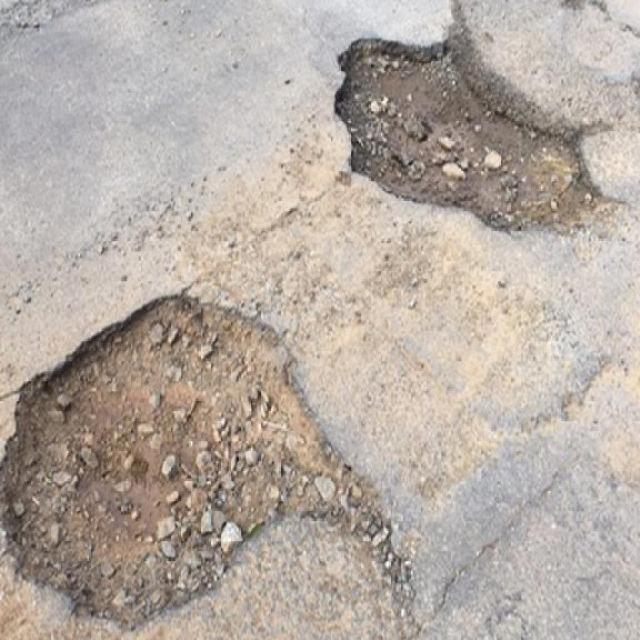Lubang: (2, 305, 404, 622), (340, 41, 595, 232)
